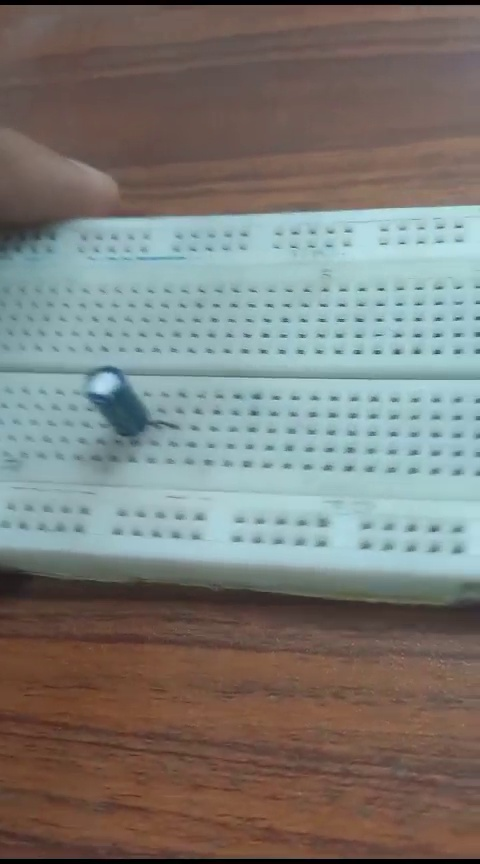capacitor: (76, 364, 168, 449)
